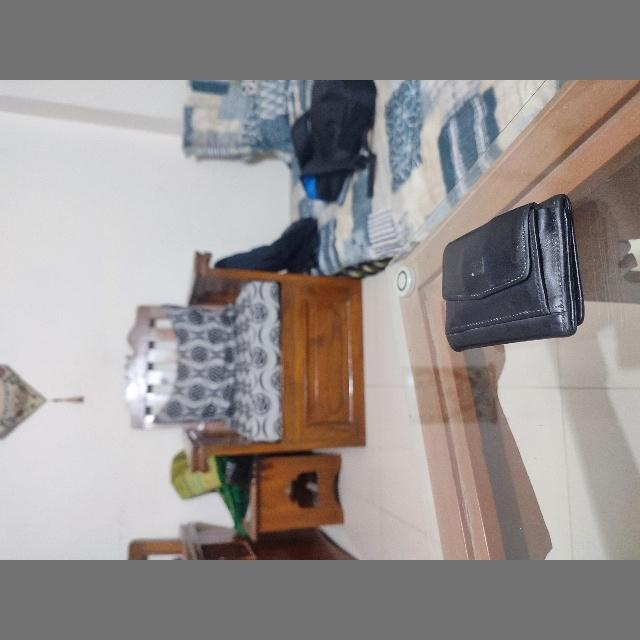Wallet: (442, 193, 586, 351)
